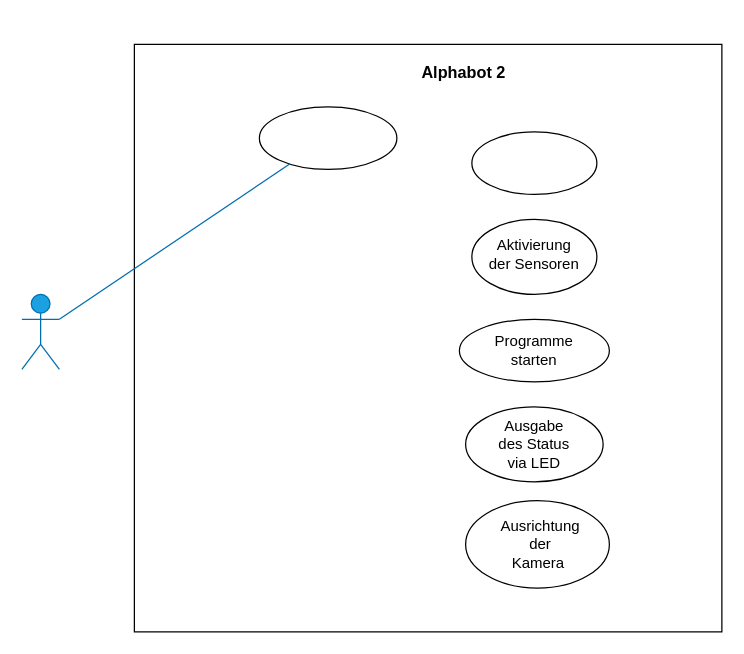
Image size: 744x654. Some labels were removed from this diagram. The centre of each missing label's shape, as x and y in pixels:
Alphabot starten: (x=327, y=137)
Start des Systems: (x=534, y=162)
